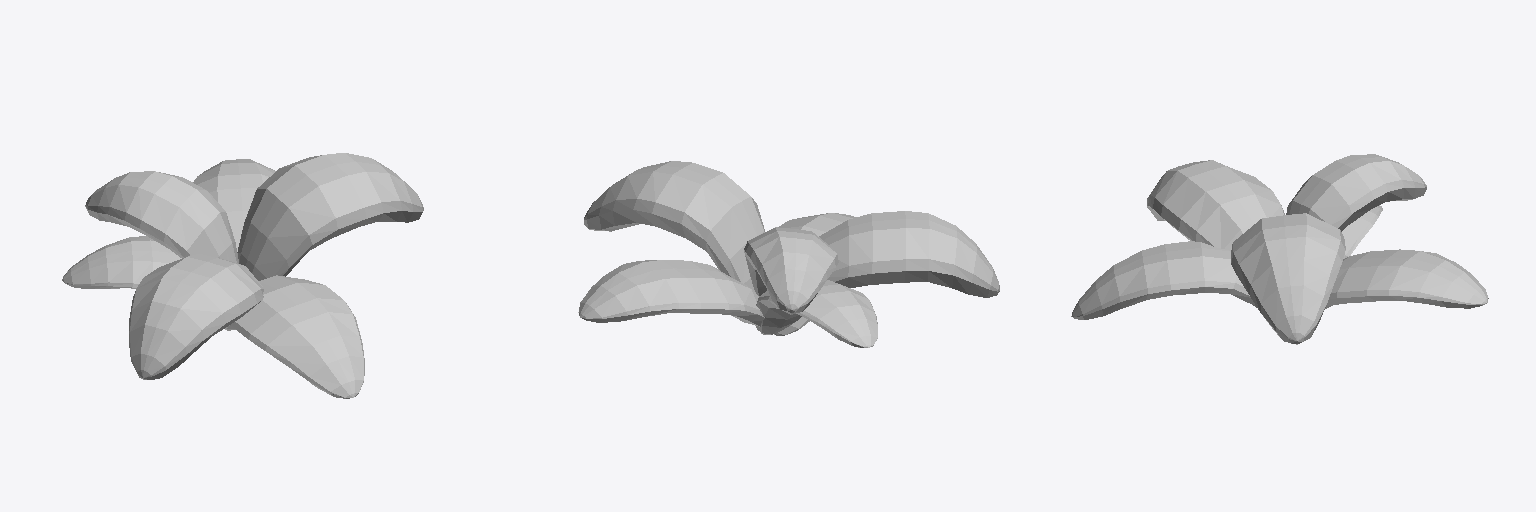
File: plantA_desert.obj
3 views of the same model, side by side, from view 1: azimuth 30°, elevation 25°; view 2: azimuth 150°, elevation 25°; view 3: azimuth 270°, elevation 25° (orthographic).
Parts seen in each view (by area): view 1: plantA_desert_Cube.052; view 2: plantA_desert_Cube.052; view 3: plantA_desert_Cube.052.
Boxes of the visible parts, box(x1,y1,x2,y2) form: plantA_desert_Cube.052: box(62, 153, 423, 398); plantA_desert_Cube.052: box(578, 161, 999, 347); plantA_desert_Cube.052: box(1071, 154, 1488, 344).
Bounding box in the file's own units: 0.6713 × 0.2624 × 0.695.